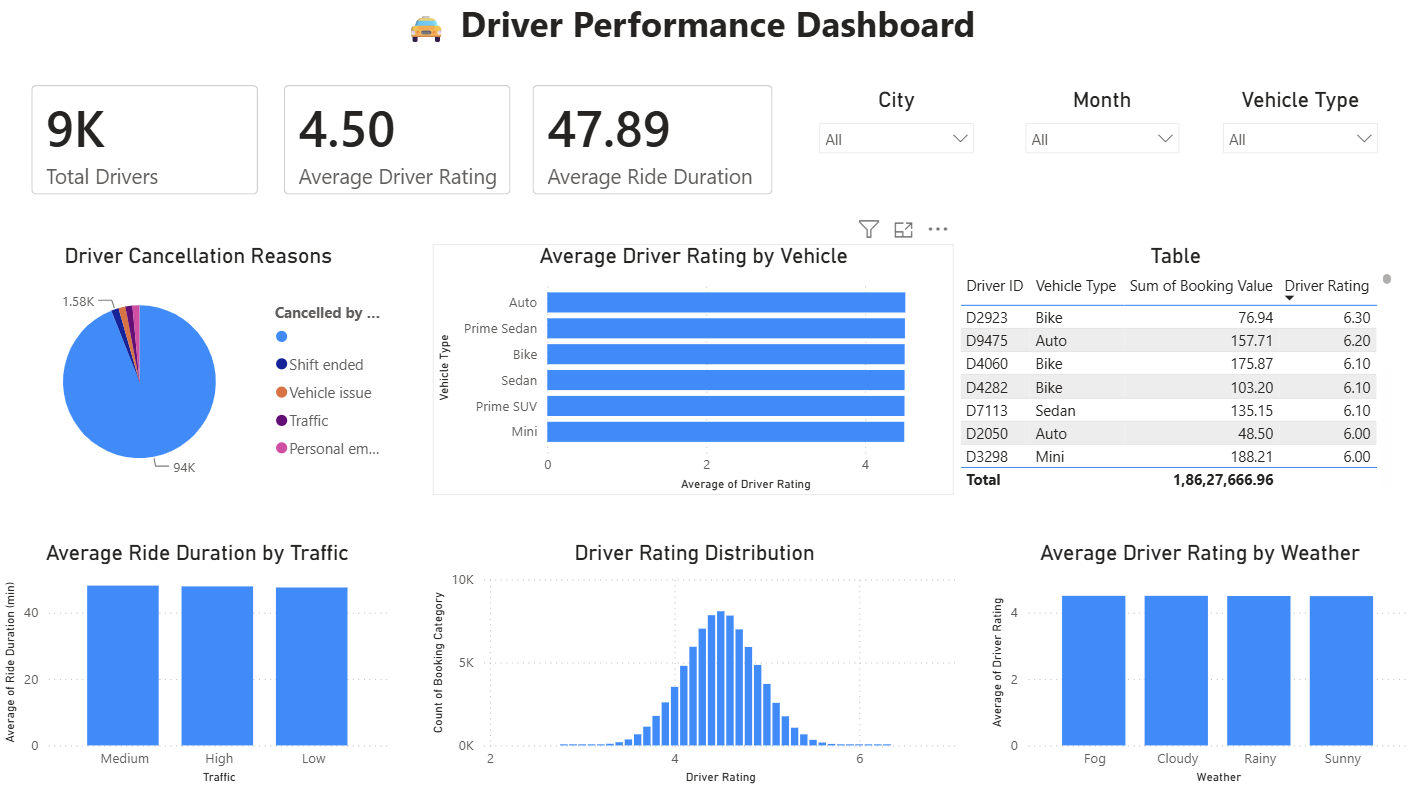

What the dashboard file says about the page in this screenshot:
{"tool":"powerbi","page":{"name":"Driver Performance","canvas":[1280,720],"ordinal":3},"visuals":[{"type":"textbox","box":[360,0,534.9,52.3],"z":0},{"type":"cardVisual","fields":{"Data":["Count(ola_cleaned.Driver ID)"]},"box":[12.8,65.1,239.5,133.7],"z":1000},{"type":"cardVisual","fields":{"Data":["Avg(ola_cleaned.Driver Rating)"]},"box":[240.7,65.1,239.5,133.7],"z":2000},{"type":"cardVisual","fields":{"Data":["Avg(ola_cleaned.Ride Duration (min))"]},"box":[466.3,65.1,251.2,133.7],"z":3000},{"type":"clusteredColumnChart","title":"Driver Rating Distribution","fields":{"Category":["ola_cleaned.Driver Rating"],"Y":["CountNonNull(ola_cleaned.Booking Category)"]},"box":[387.2,494.2,484.9,225.6],"z":4000},{"type":"barChart","title":"Average Driver Rating by Vehicle","fields":{"Category":["ola_cleaned.Vehicle Type"],"Y":["Avg(ola_cleaned.Driver Rating)"]},"box":[391.9,225.6,472.1,227.9],"z":5000},{"type":"columnChart","title":"Average Ride Duration by Traffic","fields":{"Category":["ola_cleaned.Traffic"],"Y":["Avg(ola_cleaned.Ride Duration (min))"]},"box":[0,494.2,358.1,225.6],"z":6000},{"type":"columnChart","title":"Average Driver Rating by Weather","fields":{"Category":["ola_cleaned.Weather"],"Y":["Avg(ola_cleaned.Driver Rating)"]},"box":[891.9,494.2,388.4,225.6],"z":7000},{"type":"tableEx","title":"Table","fields":{"Values":["ola_cleaned.Driver ID","ola_cleaned.Vehicle Type","Sum(ola_cleaned.Booking Value)","ola_cleaned.Driver Rating"]},"box":[864,225.6,401.2,227.9],"z":8000},{"type":"pieChart","title":"Driver Cancellation Reasons","fields":{"Category":["ola_cleaned.Cancelled by Driver Reason"],"Y":["CountNonNull(ola_cleaned.Booking ID)"]},"box":[0,225.6,360.5,227.9],"z":9000},{"type":"slicer","title":"City","fields":{"Values":["ola_cleaned.City"]},"box":[731.4,84.9,160.5,95.3],"z":10000},{"type":"slicer","title":"Month","fields":{"Values":["ola_cleaned.Month"]},"box":[918.6,84.9,159.3,95.3],"z":11000},{"type":"slicer","title":"Vehicle Type","fields":{"Values":["ola_cleaned.Vehicle Type"]},"box":[1096.5,84.9,160.5,95.3],"z":12000}]}

Visuals, with their boxes in screenshot pixels (x1, y1, x2, y2), scaled from the page's 1280x720 canvas onto the 1411x787 screenshot:
textbox: [left=397, top=0, right=986, bottom=57]
cardVisual - Count(ola_cleaned.Driver ID): [left=14, top=71, right=278, bottom=217]
cardVisual - Avg(ola_cleaned.Driver Rating): [left=265, top=71, right=529, bottom=217]
cardVisual - Avg(ola_cleaned.Ride Duration (min)): [left=514, top=71, right=791, bottom=217]
"Driver Rating Distribution" clusteredColumnChart: [left=427, top=540, right=961, bottom=786]
"Average Driver Rating by Vehicle" barChart: [left=432, top=247, right=952, bottom=496]
"Average Ride Duration by Traffic" columnChart: [left=0, top=540, right=395, bottom=786]
"Average Driver Rating by Weather" columnChart: [left=983, top=540, right=1410, bottom=786]
"Table" tableEx: [left=952, top=247, right=1395, bottom=496]
"Driver Cancellation Reasons" pieChart: [left=0, top=247, right=397, bottom=496]
"City" slicer: [left=806, top=93, right=983, bottom=197]
"Month" slicer: [left=1013, top=93, right=1188, bottom=197]
"Vehicle Type" slicer: [left=1209, top=93, right=1386, bottom=197]
